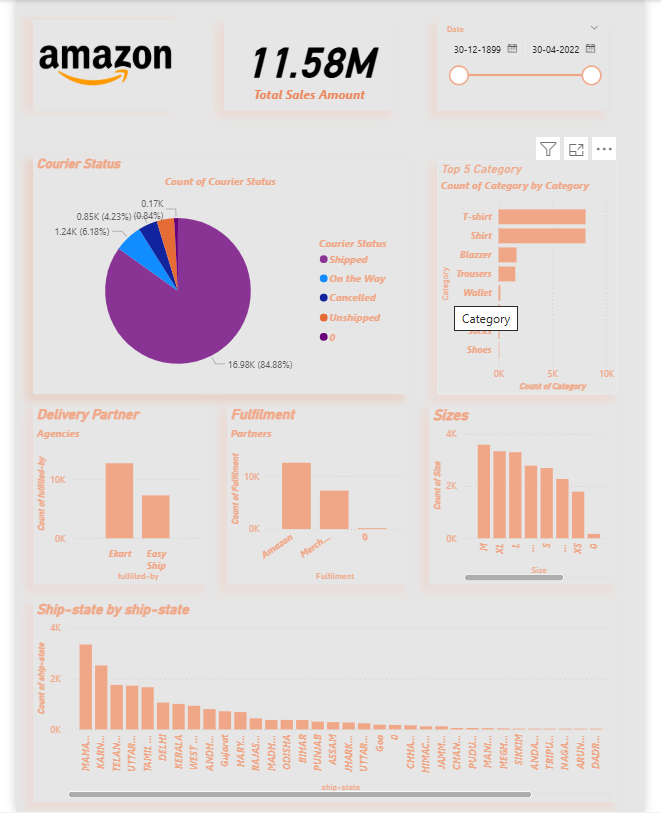

The dashboard page shown, as its layout file describes it:
{"tool":"powerbi","page":{"name":"Page 1","canvas":[816,1056],"ordinal":0},"visuals":[{"type":"image","box":[22,26,188,118],"z":0},{"type":"card","fields":{"Values":["Sum(Amazon Sale Report.Amount)"]},"box":[270,26,222,118],"z":1},{"type":"slicer","fields":{"Values":["Amazon Sale Report.Date"]},"box":[547,26,222,118],"z":2},{"type":"barChart","title":"Top 5 Category","fields":{"Category":["Amazon Sale Report.Category"],"Y":["CountNonNull(Amazon Sale Report.Category)"]},"box":[547,209,235,304],"z":3},{"type":"pieChart","title":"Courier Status","fields":{"Category":["Amazon Sale Report.Courier Status"],"Y":["CountNonNull(Amazon Sale Report.Courier Status)"]},"box":[22,203,487,310],"z":4},{"type":"columnChart","title":"Delivery Partner","fields":{"Category":["Amazon Sale Report.fulfilled-by"],"Y":["CountNonNull(Amazon Sale Report.fulfilled-by)"]},"box":[22,528,227,232],"z":5},{"type":"columnChart","title":"Fulfilment","fields":{"Category":["Amazon Sale Report.Fulfilment"],"Y":["CountNonNull(Amazon Sale Report.Fulfilment)"]},"box":[275,528,234,232],"z":6},{"type":"columnChart","title":"Sizes","fields":{"Category":["Amazon Sale Report.Size"],"Y":["CountNonNull(Amazon Sale Report.Size)"]},"box":[537,528,245,232],"z":7},{"type":"clusteredColumnChart","title":"Ship-state by ship-state","fields":{"Category":["Amazon Sale Report.ship-state"],"Y":["CountNonNull(Amazon Sale Report.ship-state)"]},"box":[22,782,760,261],"z":8}]}

Visuals, with their boxes on the page's 816x1056 design canvas (x1, y1, x2, y2). These are canvas units, not pixel positions in the 661x813 screenshot, which may show the page scaled, cropped or inside an application window:
image: [22, 26, 210, 144]
card - Sum(Amazon Sale Report.Amount): [270, 26, 492, 144]
slicer - Amazon Sale Report.Date: [547, 26, 769, 144]
"Top 5 Category" barChart: [547, 209, 782, 513]
"Courier Status" pieChart: [22, 203, 509, 513]
"Delivery Partner" columnChart: [22, 528, 249, 760]
"Fulfilment" columnChart: [275, 528, 509, 760]
"Sizes" columnChart: [537, 528, 782, 760]
"Ship-state by ship-state" clusteredColumnChart: [22, 782, 782, 1043]
